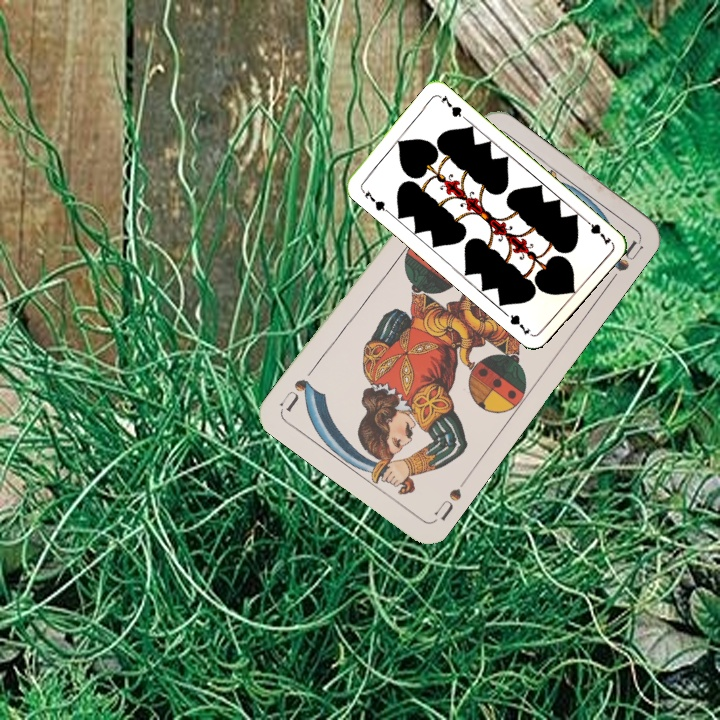G7: (580, 214, 613, 247), (357, 184, 391, 215)
SU: (430, 484, 464, 524)
